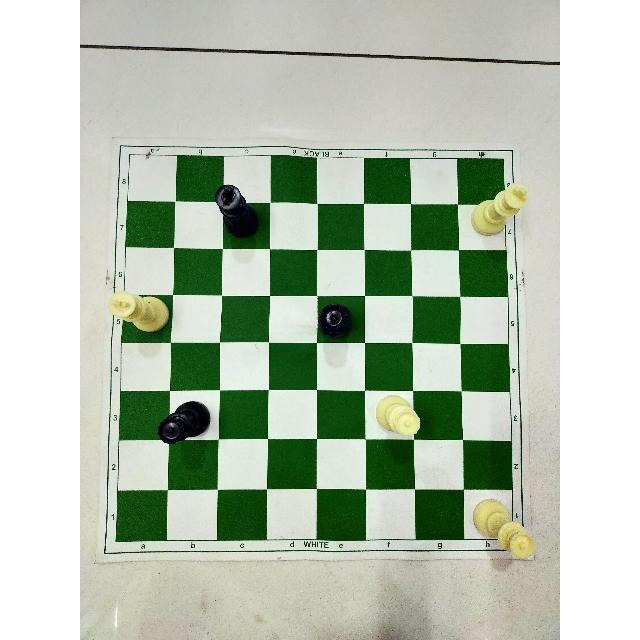black-king: (214, 184, 262, 240)
black-queen: (156, 399, 210, 451), (316, 302, 352, 338)
white-king: (465, 183, 534, 235), (108, 289, 171, 333)
white-queen: (470, 499, 537, 562), (375, 392, 423, 444)
